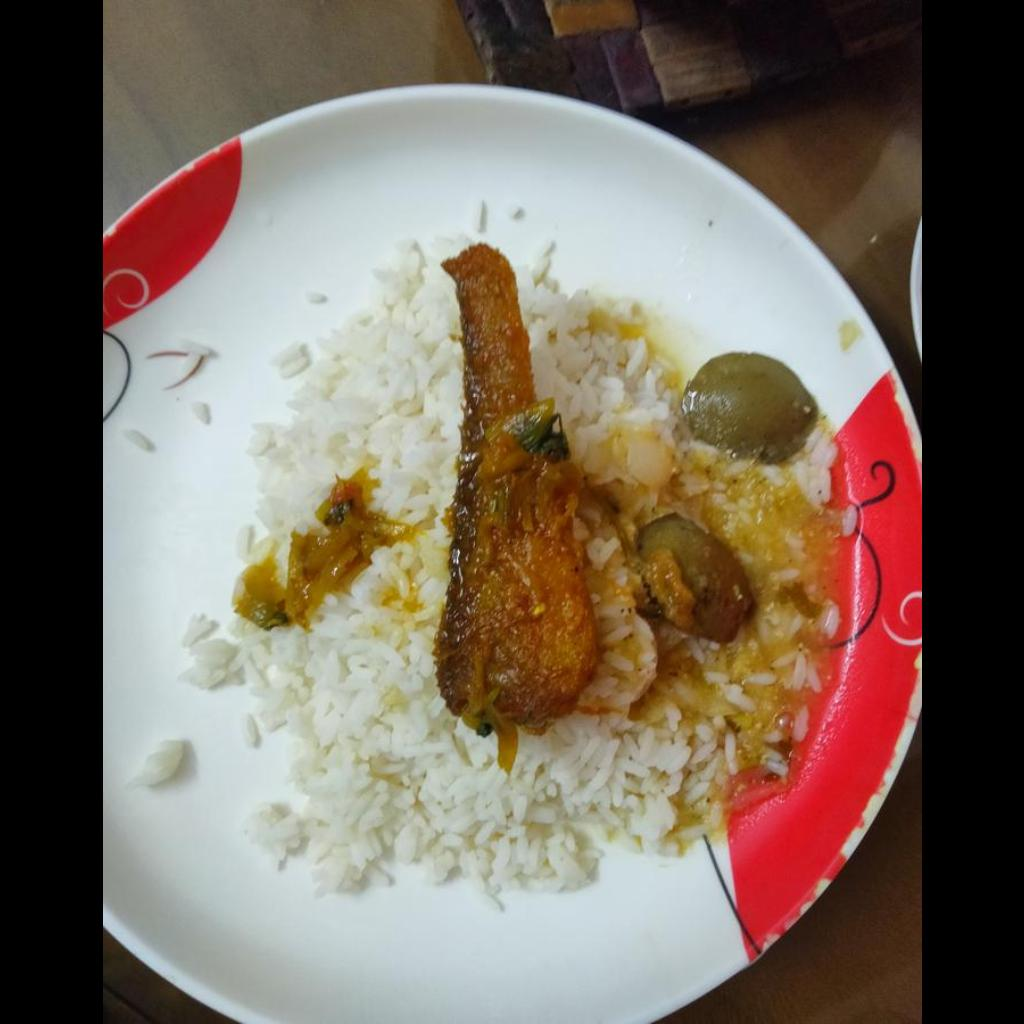fish: (430, 243, 599, 736)
potol: (680, 353, 818, 464), (639, 513, 752, 641)
rice: (184, 240, 830, 899)
